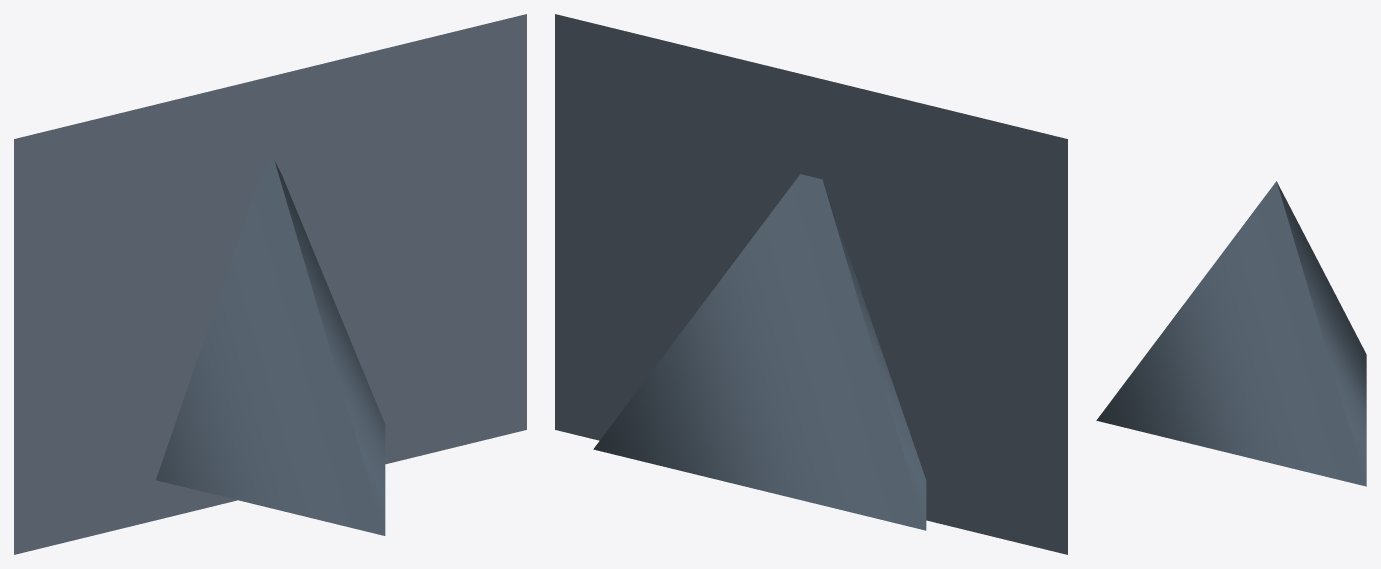
The model's file is canvas-setting-cave.gltf.
3 renders of one model, left to right at view 1: azimuth 30°, elevation 25°; view 2: azimuth 150°, elevation 25°; view 3: azimuth 270°, elevation 25°, orthographic. The views are drawn at different scales.
Parts seen in each view (by area): view 1: Sky, Mouth; view 2: Sky, Mouth; view 3: Mouth.
Boxes of the visible parts, box(x1,y1,x2,y2) form: Sky: box(14, 14, 526, 554); Mouth: box(156, 160, 385, 535); Sky: box(555, 14, 1067, 554); Mouth: box(593, 174, 926, 530); Mouth: box(1096, 181, 1366, 486).
Bounding box in the file's own units: 0.8 × 0.62 × 0.45.
